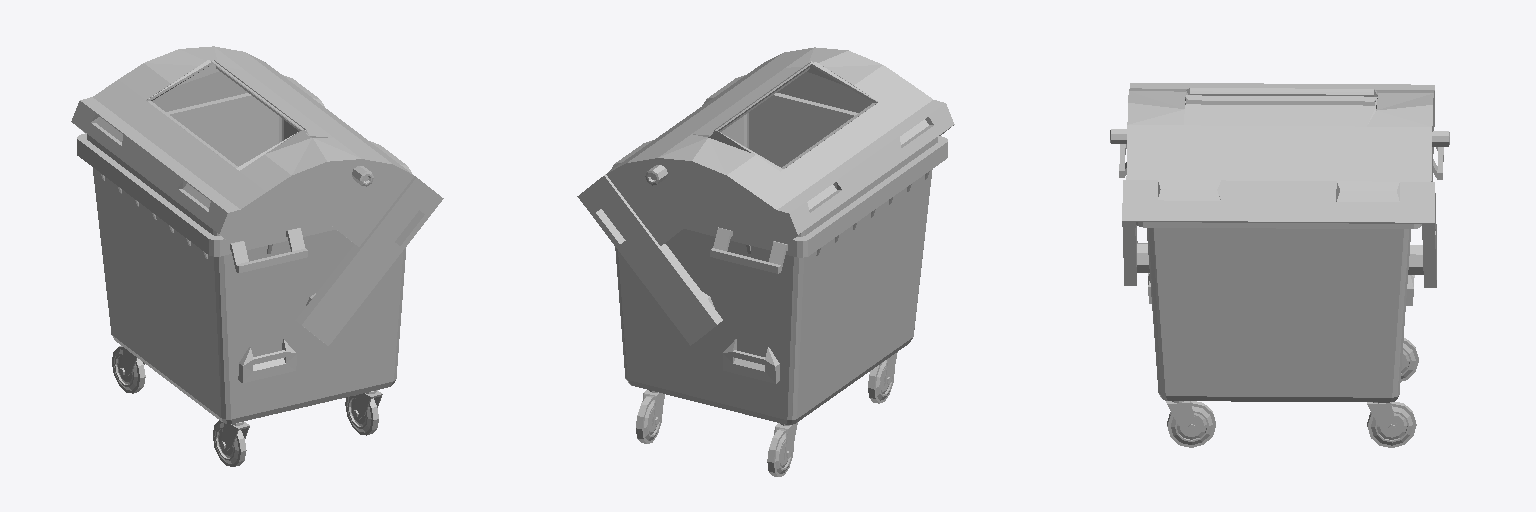
The model's file is dumpster.obj.
3 views of the same model, side by side, from view 1: azimuth 30°, elevation 25°; view 2: azimuth 150°, elevation 25°; view 3: azimuth 270°, elevation 25° (orthographic).
Parts seen in each view (by area): view 1: Garbage_Container_; view 2: Garbage_Container_; view 3: Garbage_Container_.
Boxes of the visible parts, box(x1,y1,x2,y2) form: Garbage_Container_: box(71, 46, 443, 466); Garbage_Container_: box(577, 47, 954, 476); Garbage_Container_: box(1110, 83, 1449, 447).
Size of the model in its own units: 2.62 by 3.54 by 3.39.